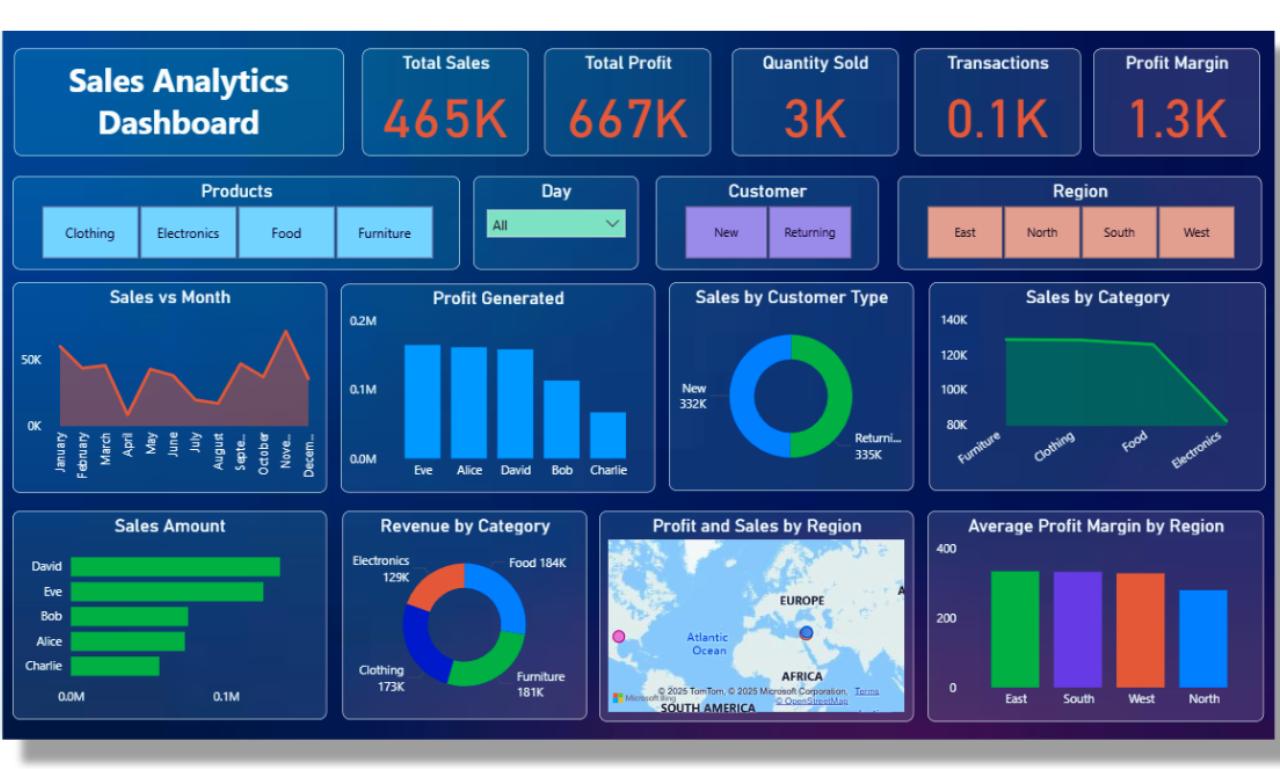

The dashboard page shown, as its layout file describes it:
{"tool":"powerbi","page":{"name":"Page 1","canvas":[1280,720],"ordinal":0},"visuals":[{"type":"card","title":"Total Sales","fields":{"Values":["Sum(sales_data.Sales_Amount)"]},"box":[361.1,25,167.2,107.8],"z":0},{"type":"card","title":"Quantity Sold","fields":{"Values":["Sum(sales_data.Quantity_Sold)"]},"box":[733,25,167.2,107.8],"z":1000},{"type":"card","title":"Total Profit","fields":{"Values":["Sum(sales_data.Total Profit)"]},"box":[545.5,25,167.2,107.8],"z":2000},{"type":"card","title":"Profit Margin","fields":{"Values":["Sum(sales_data.Average Profit Margin)"]},"box":[1097.2,25,167.2,107.8],"z":3000},{"type":"card","title":"Transactions","fields":{"Values":["CountNonNull(sales_data.Product_ID)"]},"box":[915.9,25,167.2,107.8],"z":4000},{"type":"slicer","title":"Region","fields":{"Values":["sales_data.Region"]},"box":[900.3,603.3,365.7,95.3],"z":5000},{"type":"slicer","title":"Day","fields":{"Values":["sales_data.Sale_Date"]},"box":[723.7,603.3,167.2,95.3],"z":6000},{"type":"slicer","title":"Products","fields":{"Values":["sales_data.Product_Category"]},"box":[10.9,603.3,448.6,95.3],"z":7000},{"type":"slicer","title":"Customer","fields":{"Values":["sales_data.Customer_Type"]},"box":[476.7,603.3,236,95.3],"z":8000},{"type":"stackedAreaChart","title":"Sales vs Month","fields":{"Category":["sales_data.Sale_Date.Variation.Date Hierarchy.Month"],"Y":["Sum(sales_data.Sales_Amount)"]},"box":[10.9,150,315.7,211],"z":9000},{"type":"lineStackedColumnComboChart","title":"Average Profit Margin by Region","fields":{"Category":["sales_data.Region"],"Y":["Sum(sales_data.Average Profit Margin)"]},"box":[928.4,378.2,337.6,211],"z":10000},{"type":"barChart","title":"Sales Amount","fields":{"Category":["sales_data.Sales_Rep"],"Y":["Sum(sales_data.Sales_Amount)"]},"box":[10.9,378.2,315.7,211],"z":11000},{"type":"columnChart","title":"Profit Generated","fields":{"Category":["sales_data.Sales_Rep"],"Y":["Sum(sales_data.Total Profit)"]},"box":[342.3,151.6,315.7,211],"z":12000},{"type":"stackedAreaChart","title":"Sales by Category","fields":{"Category":["sales_data.Product_Category"],"Y":["Sum(sales_data.Sales_Amount)"]},"box":[928.4,151.6,337.6,211],"z":13000},{"type":"donutChart","title":"Revenue by Category","fields":{"Category":["sales_data.Product_Category"],"Y":["Sum(sales_data.Total Profit)"]},"box":[342.3,378.2,245.4,209.4],"z":14000},{"type":"donutChart","title":"Sales by Customer Type","fields":{"Y":["Sum(sales_data.Total Profit)"],"Category":["sales_data.Customer_Type"]},"box":[670.5,151.6,245.4,211],"z":15000},{"type":"map","title":" Profit and Sales by Region","fields":{"Category":["sales_data.Region"],"Size":["Sum(sales_data.Total Profit)"]},"box":[601.8,378.2,315.7,211],"z":16000},{"type":"textbox","box":[10.9,25,331.4,107.8],"z":17000}]}

Visuals, with their boxes on the page's 1280x720 design canvas (x1, y1, x2, y2). These are canvas units, not pixel positions in the 1280x769 screenshot, which may show the page scaled, cropped or inside an application window:
"Total Sales" card: Rect(361, 25, 528, 133)
"Quantity Sold" card: Rect(733, 25, 900, 133)
"Total Profit" card: Rect(546, 25, 713, 133)
"Profit Margin" card: Rect(1097, 25, 1264, 133)
"Transactions" card: Rect(916, 25, 1083, 133)
"Region" slicer: Rect(900, 603, 1266, 699)
"Day" slicer: Rect(724, 603, 891, 699)
"Products" slicer: Rect(11, 603, 460, 699)
"Customer" slicer: Rect(477, 603, 713, 699)
"Sales vs Month" stackedAreaChart: Rect(11, 150, 327, 361)
"Average Profit Margin by Region" lineStackedColumnComboChart: Rect(928, 378, 1266, 589)
"Sales Amount" barChart: Rect(11, 378, 327, 589)
"Profit Generated" columnChart: Rect(342, 152, 658, 363)
"Sales by Category" stackedAreaChart: Rect(928, 152, 1266, 363)
"Revenue by Category" donutChart: Rect(342, 378, 588, 588)
"Sales by Customer Type" donutChart: Rect(670, 152, 916, 363)
" Profit and Sales by Region" map: Rect(602, 378, 918, 589)
textbox: Rect(11, 25, 342, 133)
